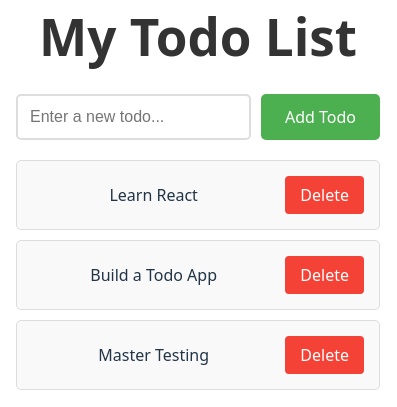
Scenario: TodoList Component › deletes a todo when delete button is clicked
Expected: the text "Learn React" is shown, [109,184,198,206]
Note: Click delete
Click the button "Delete" next to "Learn React".
click(325, 195)  # box [285,176,364,214]
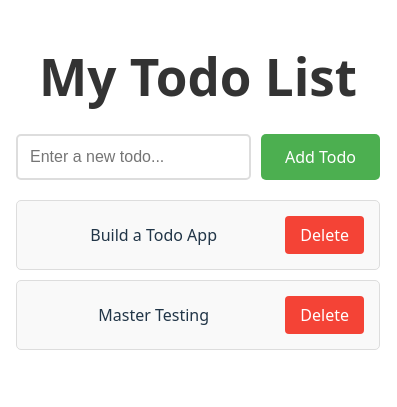
Expected: the text "Learn React" is gone
